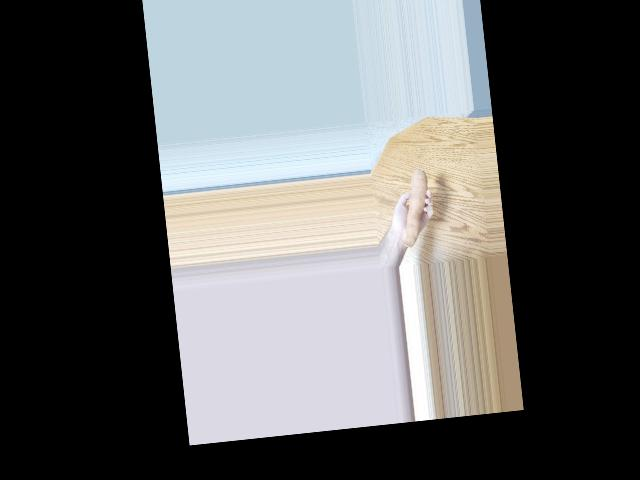sweet_potato: (399, 166, 435, 244)
